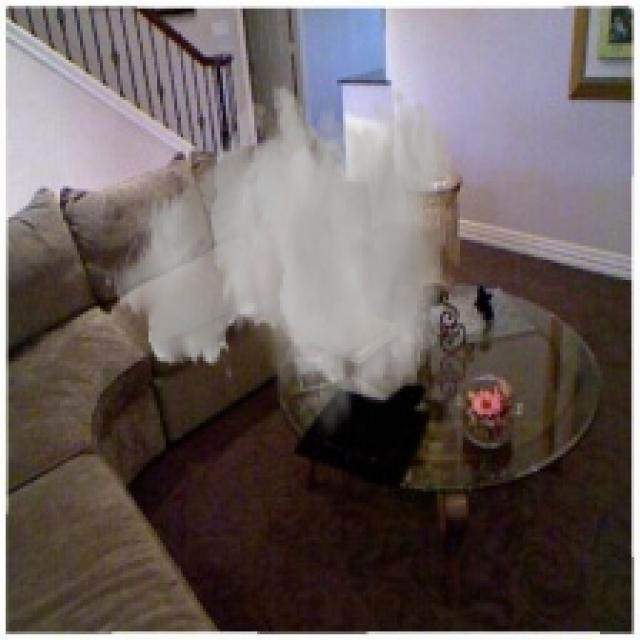smoke: (103, 83, 454, 443)
